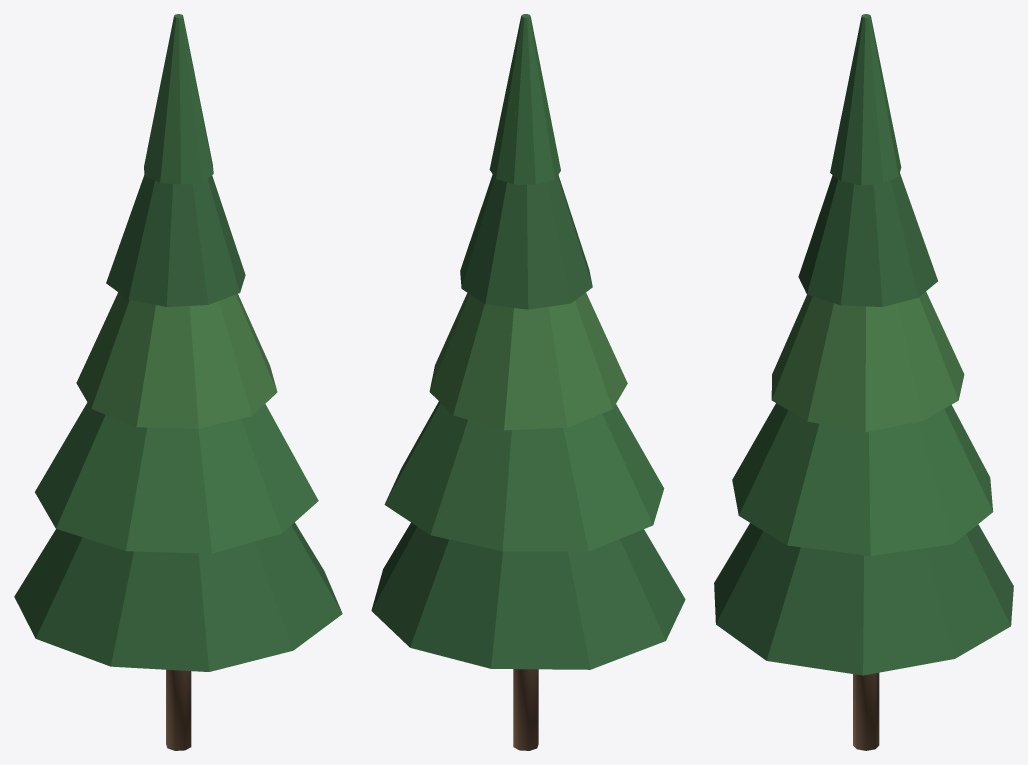
Rendered from pine_a.glb.
3 views of the same model, side by side, from view 1: azimuth 30°, elevation 25°; view 2: azimuth 150°, elevation 25°; view 3: azimuth 270°, elevation 25° (orthographic).
Visible parts, largest first — view 1: pine_a; view 2: pine_a; view 3: pine_a.
Part boxes in pixels (x1,y1,x2,y2): pine_a: (14, 14, 342, 750); pine_a: (371, 14, 685, 750); pine_a: (714, 14, 1013, 750).
Size of the model in its own units: 4.05 by 9.88 by 3.68.
